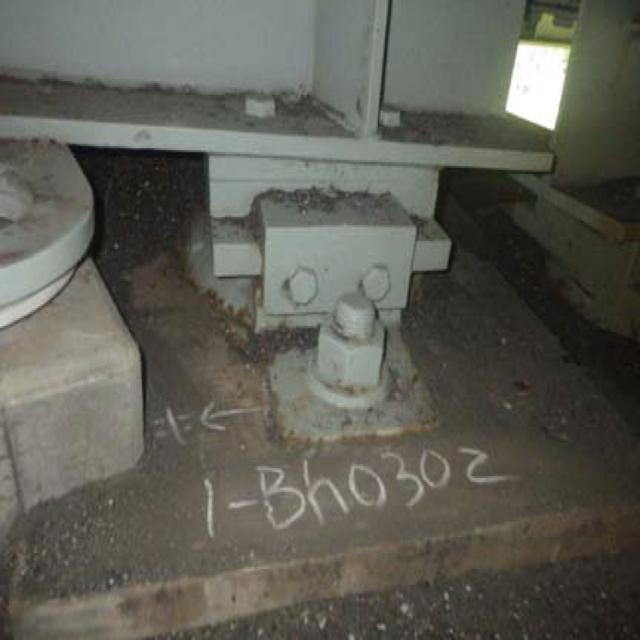corrosion: (194, 234, 456, 460)
